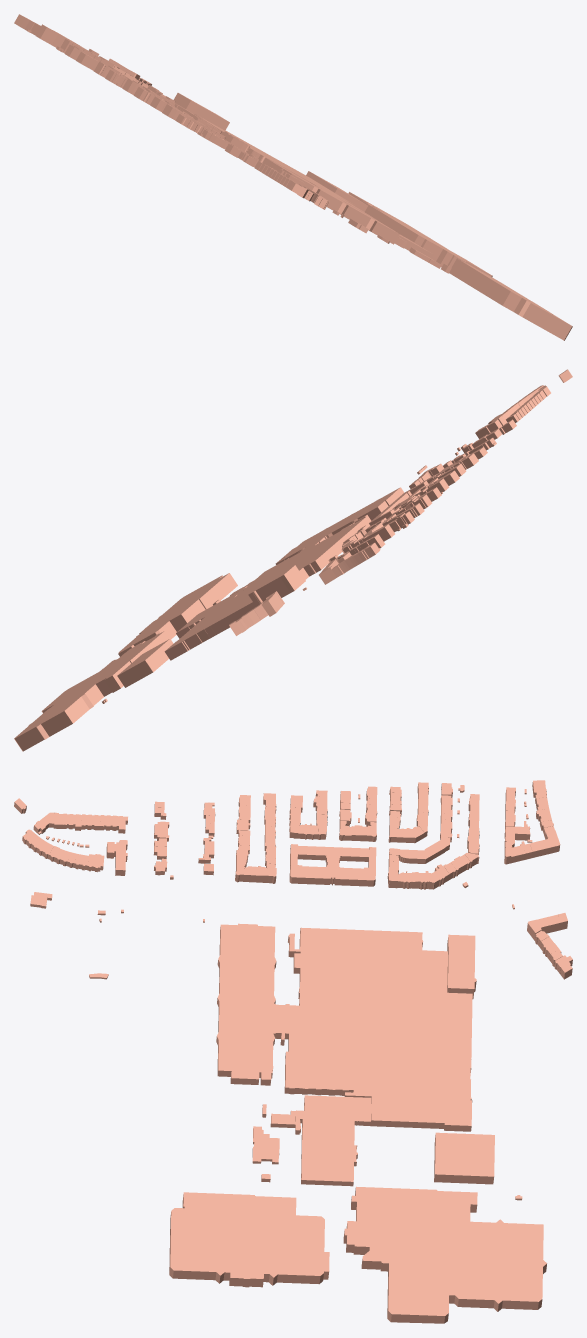
3 renders of one model, top to bottom at view 1: azimuth 30°, elevation 25°; view 2: azimuth 150°, elevation 25°; view 3: azimuth 270°, elevation 25°, orthographic. The views are drawn at different scales.
Size of the model in its own units: 560 by 424 by 628.
